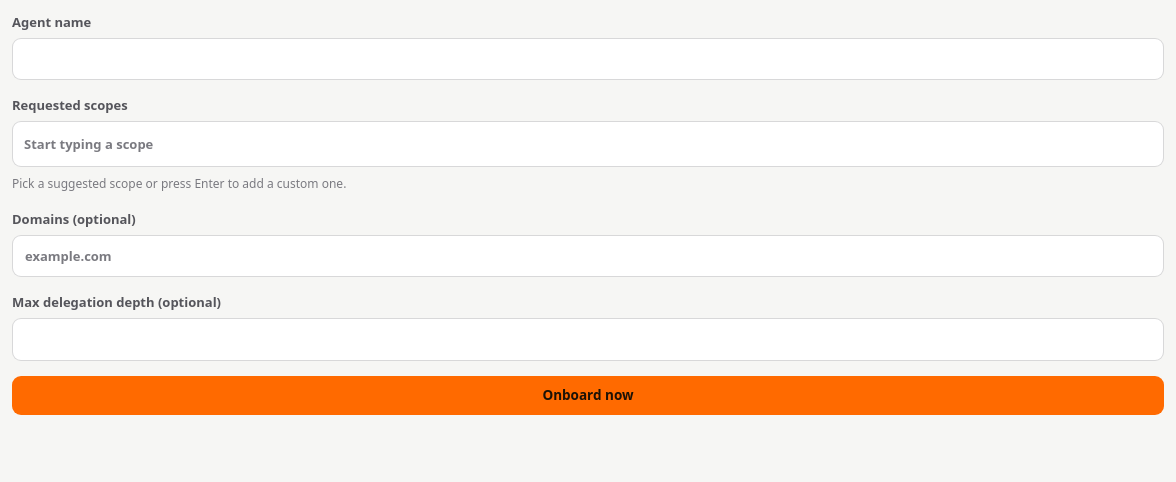
Scenario: EnrollForm › shows a validation error when submitting with no scopes
In the field labelled "Agent name": (588, 59) [12, 38, 1164, 80], type "billing-agent"
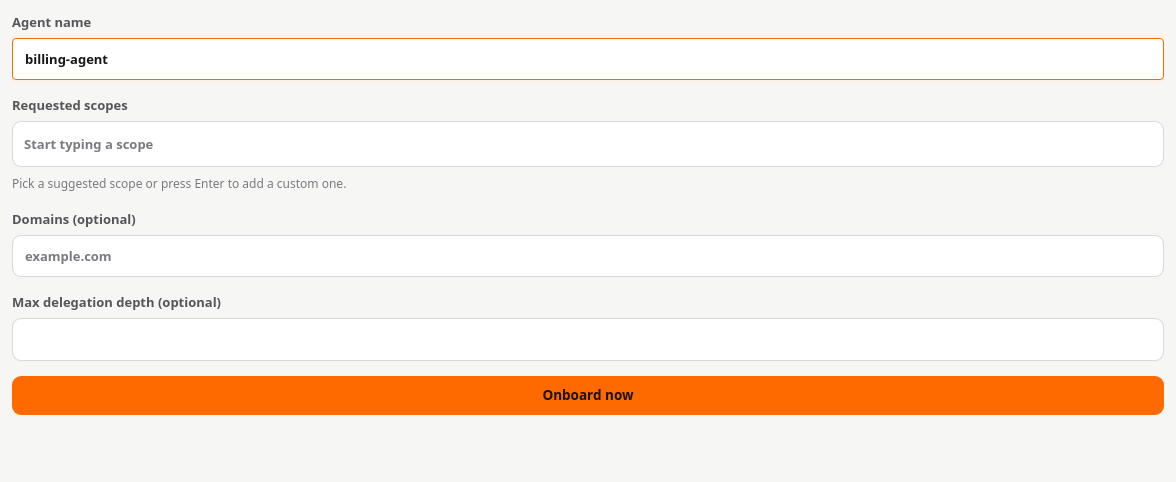
Click the button "Onboard now": (588, 395) [12, 376, 1164, 414]
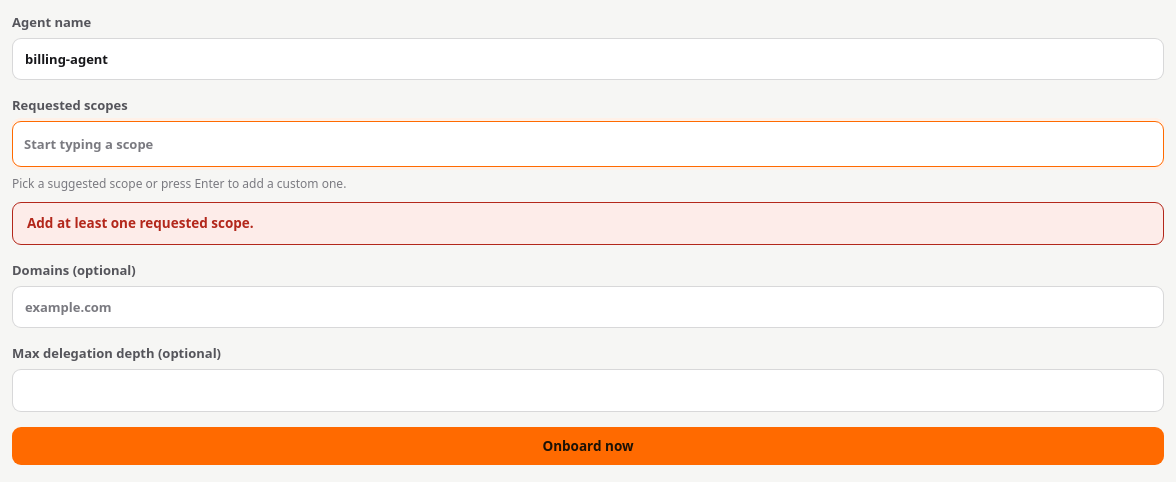
Now the message shows "Add at least one requested scope", box [27, 214, 254, 232]
